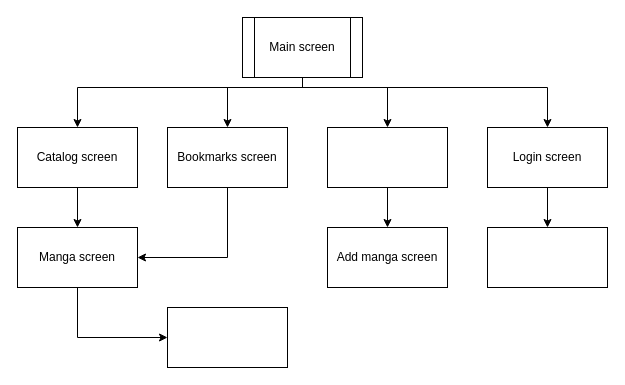
The diagram is 625 pixels wide and 385 high, and some of its shapes have lost their labels. Here are the shapes that lost their labels. From the top down, the centre of each, then its label:
[387,157]: Account screen
[547,257]: Register screen
[227,337]: Edit manga screen
